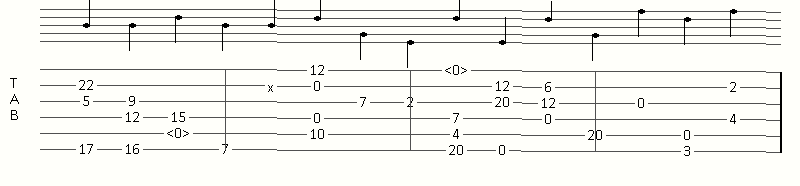0: (313, 111, 325, 125), (313, 79, 325, 93), (498, 143, 510, 157), (544, 111, 556, 125), (637, 95, 649, 109), (683, 127, 695, 141)
10: (309, 127, 329, 141)
12: (124, 111, 144, 125), (309, 63, 329, 77), (494, 79, 514, 93), (540, 95, 560, 109)
15: (170, 111, 190, 125)
16: (124, 143, 144, 157)
17: (78, 143, 98, 157)
2: (406, 95, 418, 109), (729, 79, 741, 93)
20: (448, 143, 468, 157), (494, 95, 514, 109), (587, 127, 607, 141)
22: (78, 79, 98, 93)
3: (683, 143, 695, 157)
4: (452, 127, 464, 141), (729, 111, 741, 125)
5: (82, 95, 94, 109)
6: (544, 79, 556, 93)
7: (221, 143, 233, 157), (359, 95, 371, 109), (452, 111, 464, 125)
9: (128, 95, 140, 109)
harmonic: (166, 127, 194, 141), (444, 63, 472, 77)
x: (267, 81, 278, 92)
